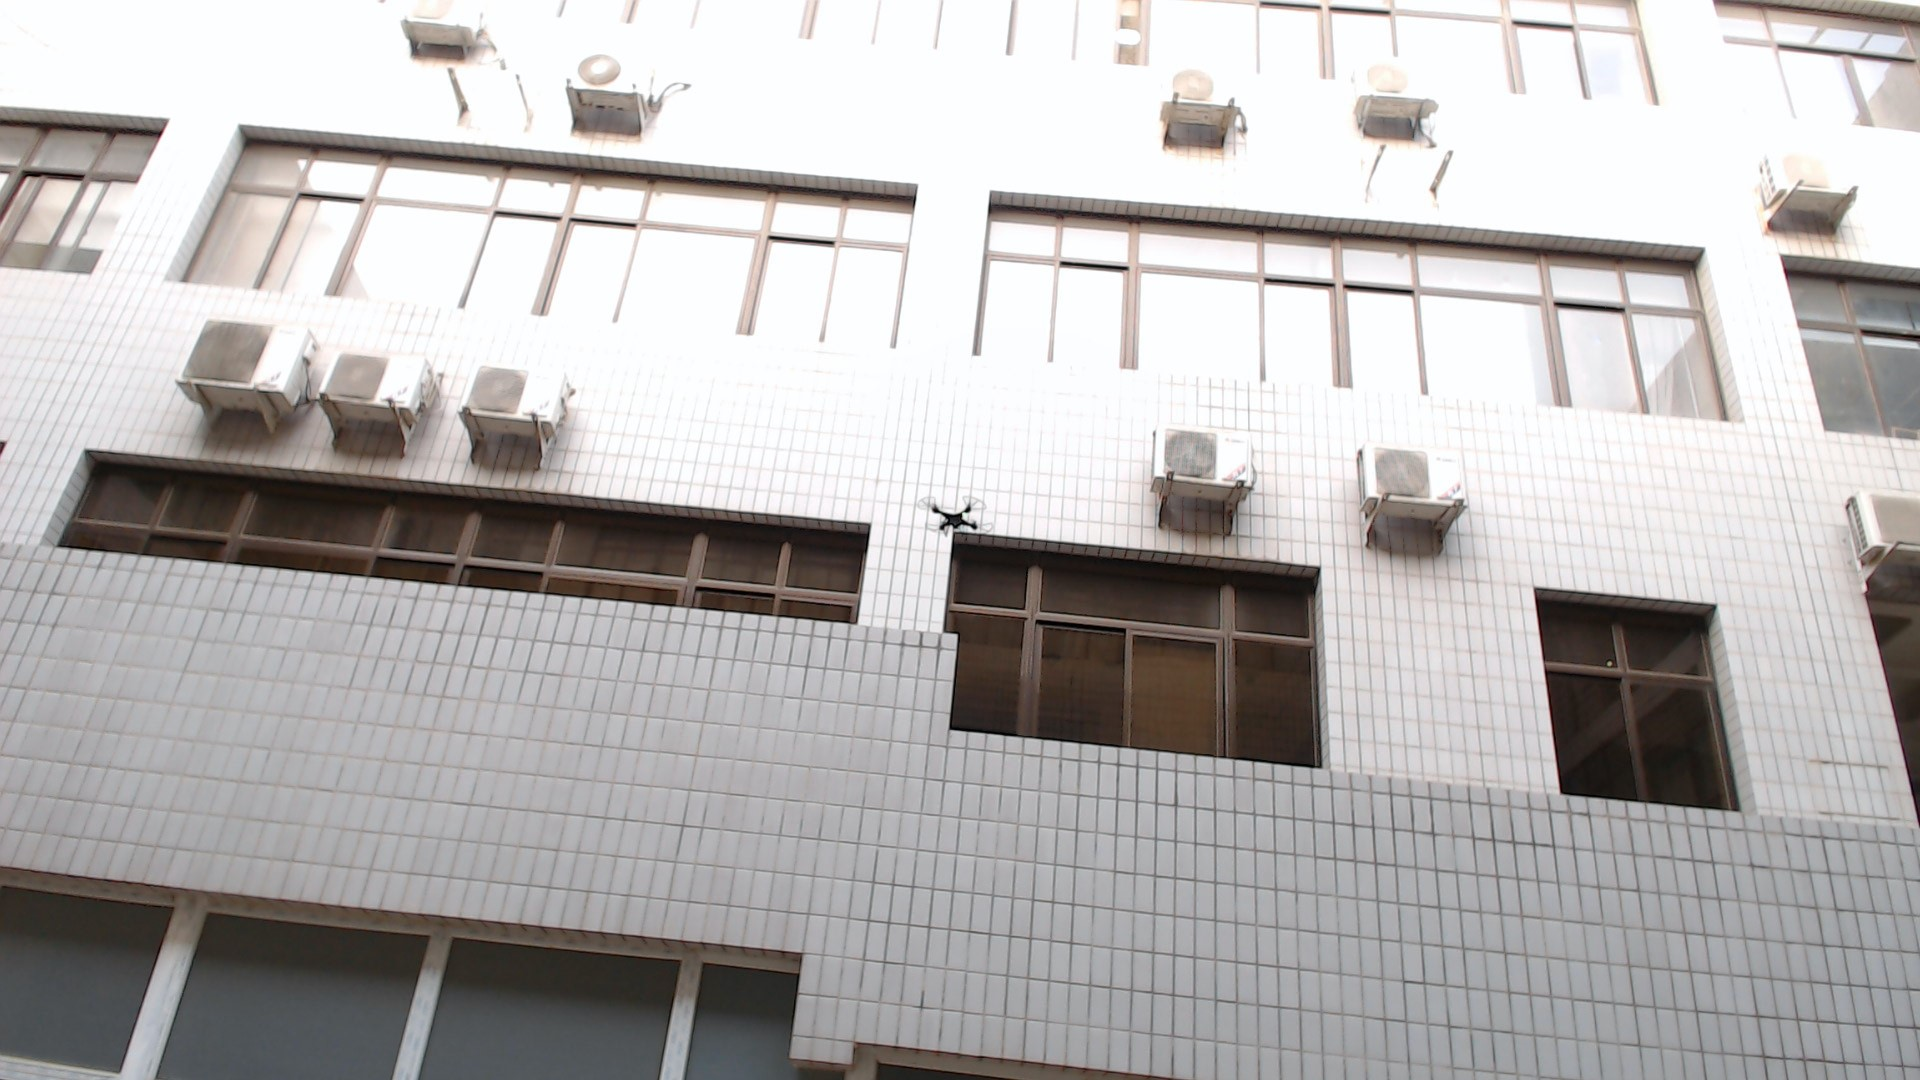drone: (911, 469, 1015, 560)
